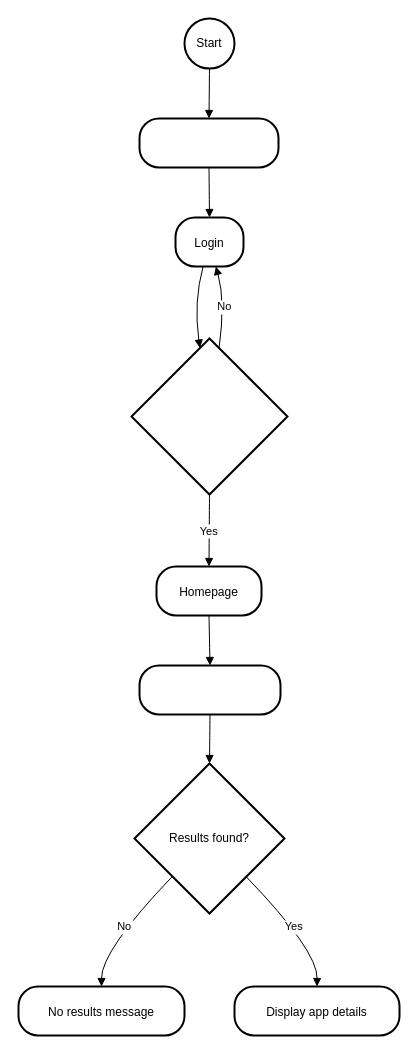
Some shapes in this 417 by 1053 pixel diagram are drawn without their labels. The shapes that lost their labels are listed below. From the top down, each one's box as (x1, y1, x2, y2) in pixels, then its label:
(138, 117, 279, 168): Create account
(130, 337, 288, 495): Authenticated?
(138, 664, 281, 715): Search for apps
